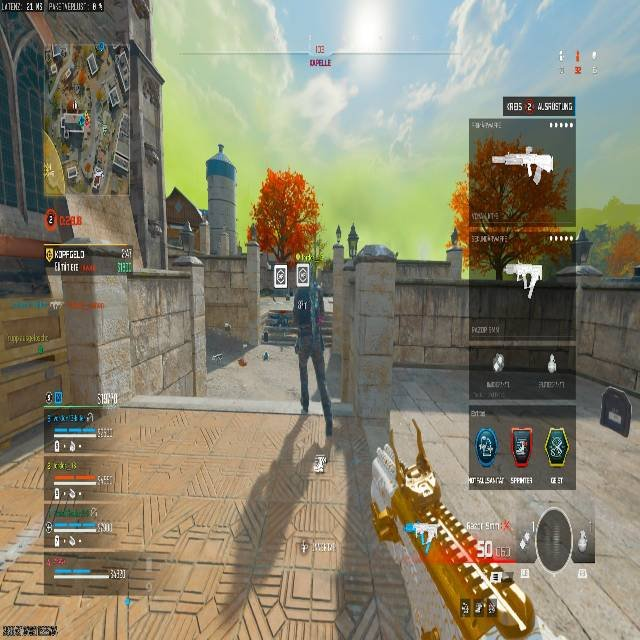player: (299, 70, 350, 158), (262, 329, 269, 343)
